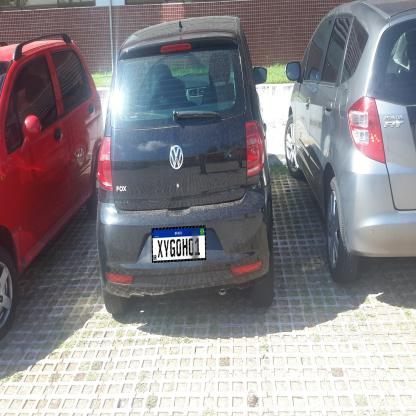PlacaM: (152, 225, 206, 263)
